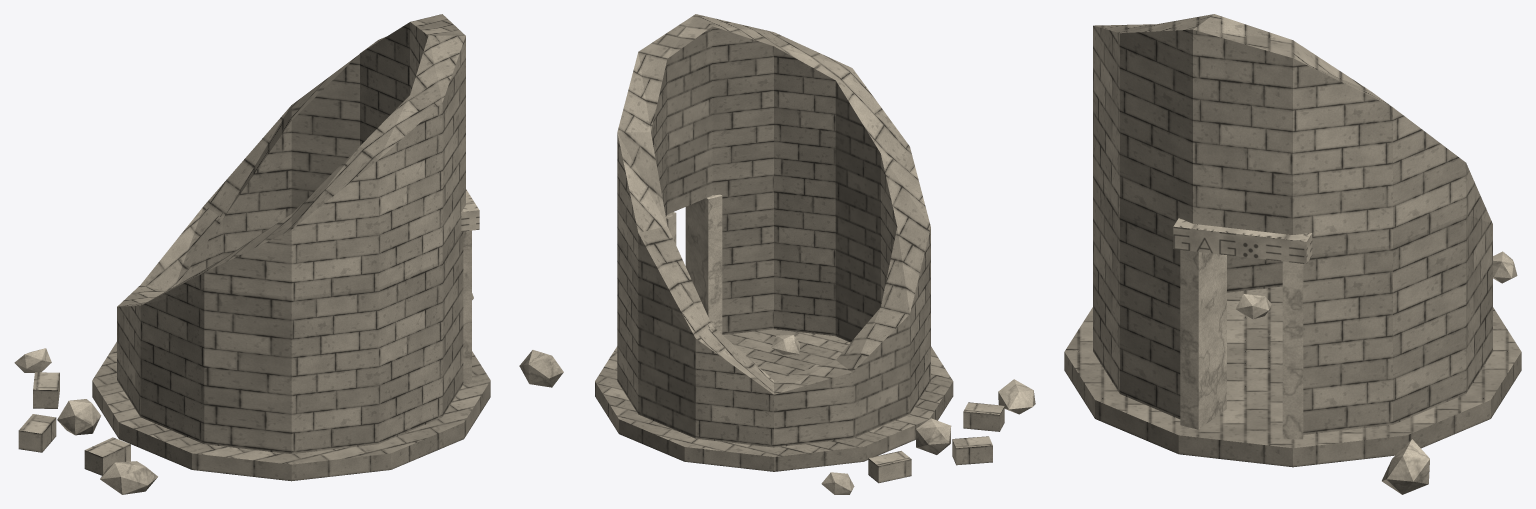
Rendered from ruin-tower.glb.
The picture shows the model from 3 angles, left to right: view 1: azimuth 30°, elevation 25°; view 2: azimuth 150°, elevation 25°; view 3: azimuth 270°, elevation 25°; orthographic projection. The views are drawn at different scales.
Parts seen in each view (by area): view 1: ruin-tower; view 2: ruin-tower; view 3: ruin-tower.
Boxes of the visible parts, x1,y1,x2,y2 form: ruin-tower: [14, 14, 490, 494]; ruin-tower: [519, 14, 1035, 494]; ruin-tower: [1064, 14, 1521, 494].
Bounding box in the file's own units: 6.8 × 4.8 × 4.8.
3 materials, 3 textured.
